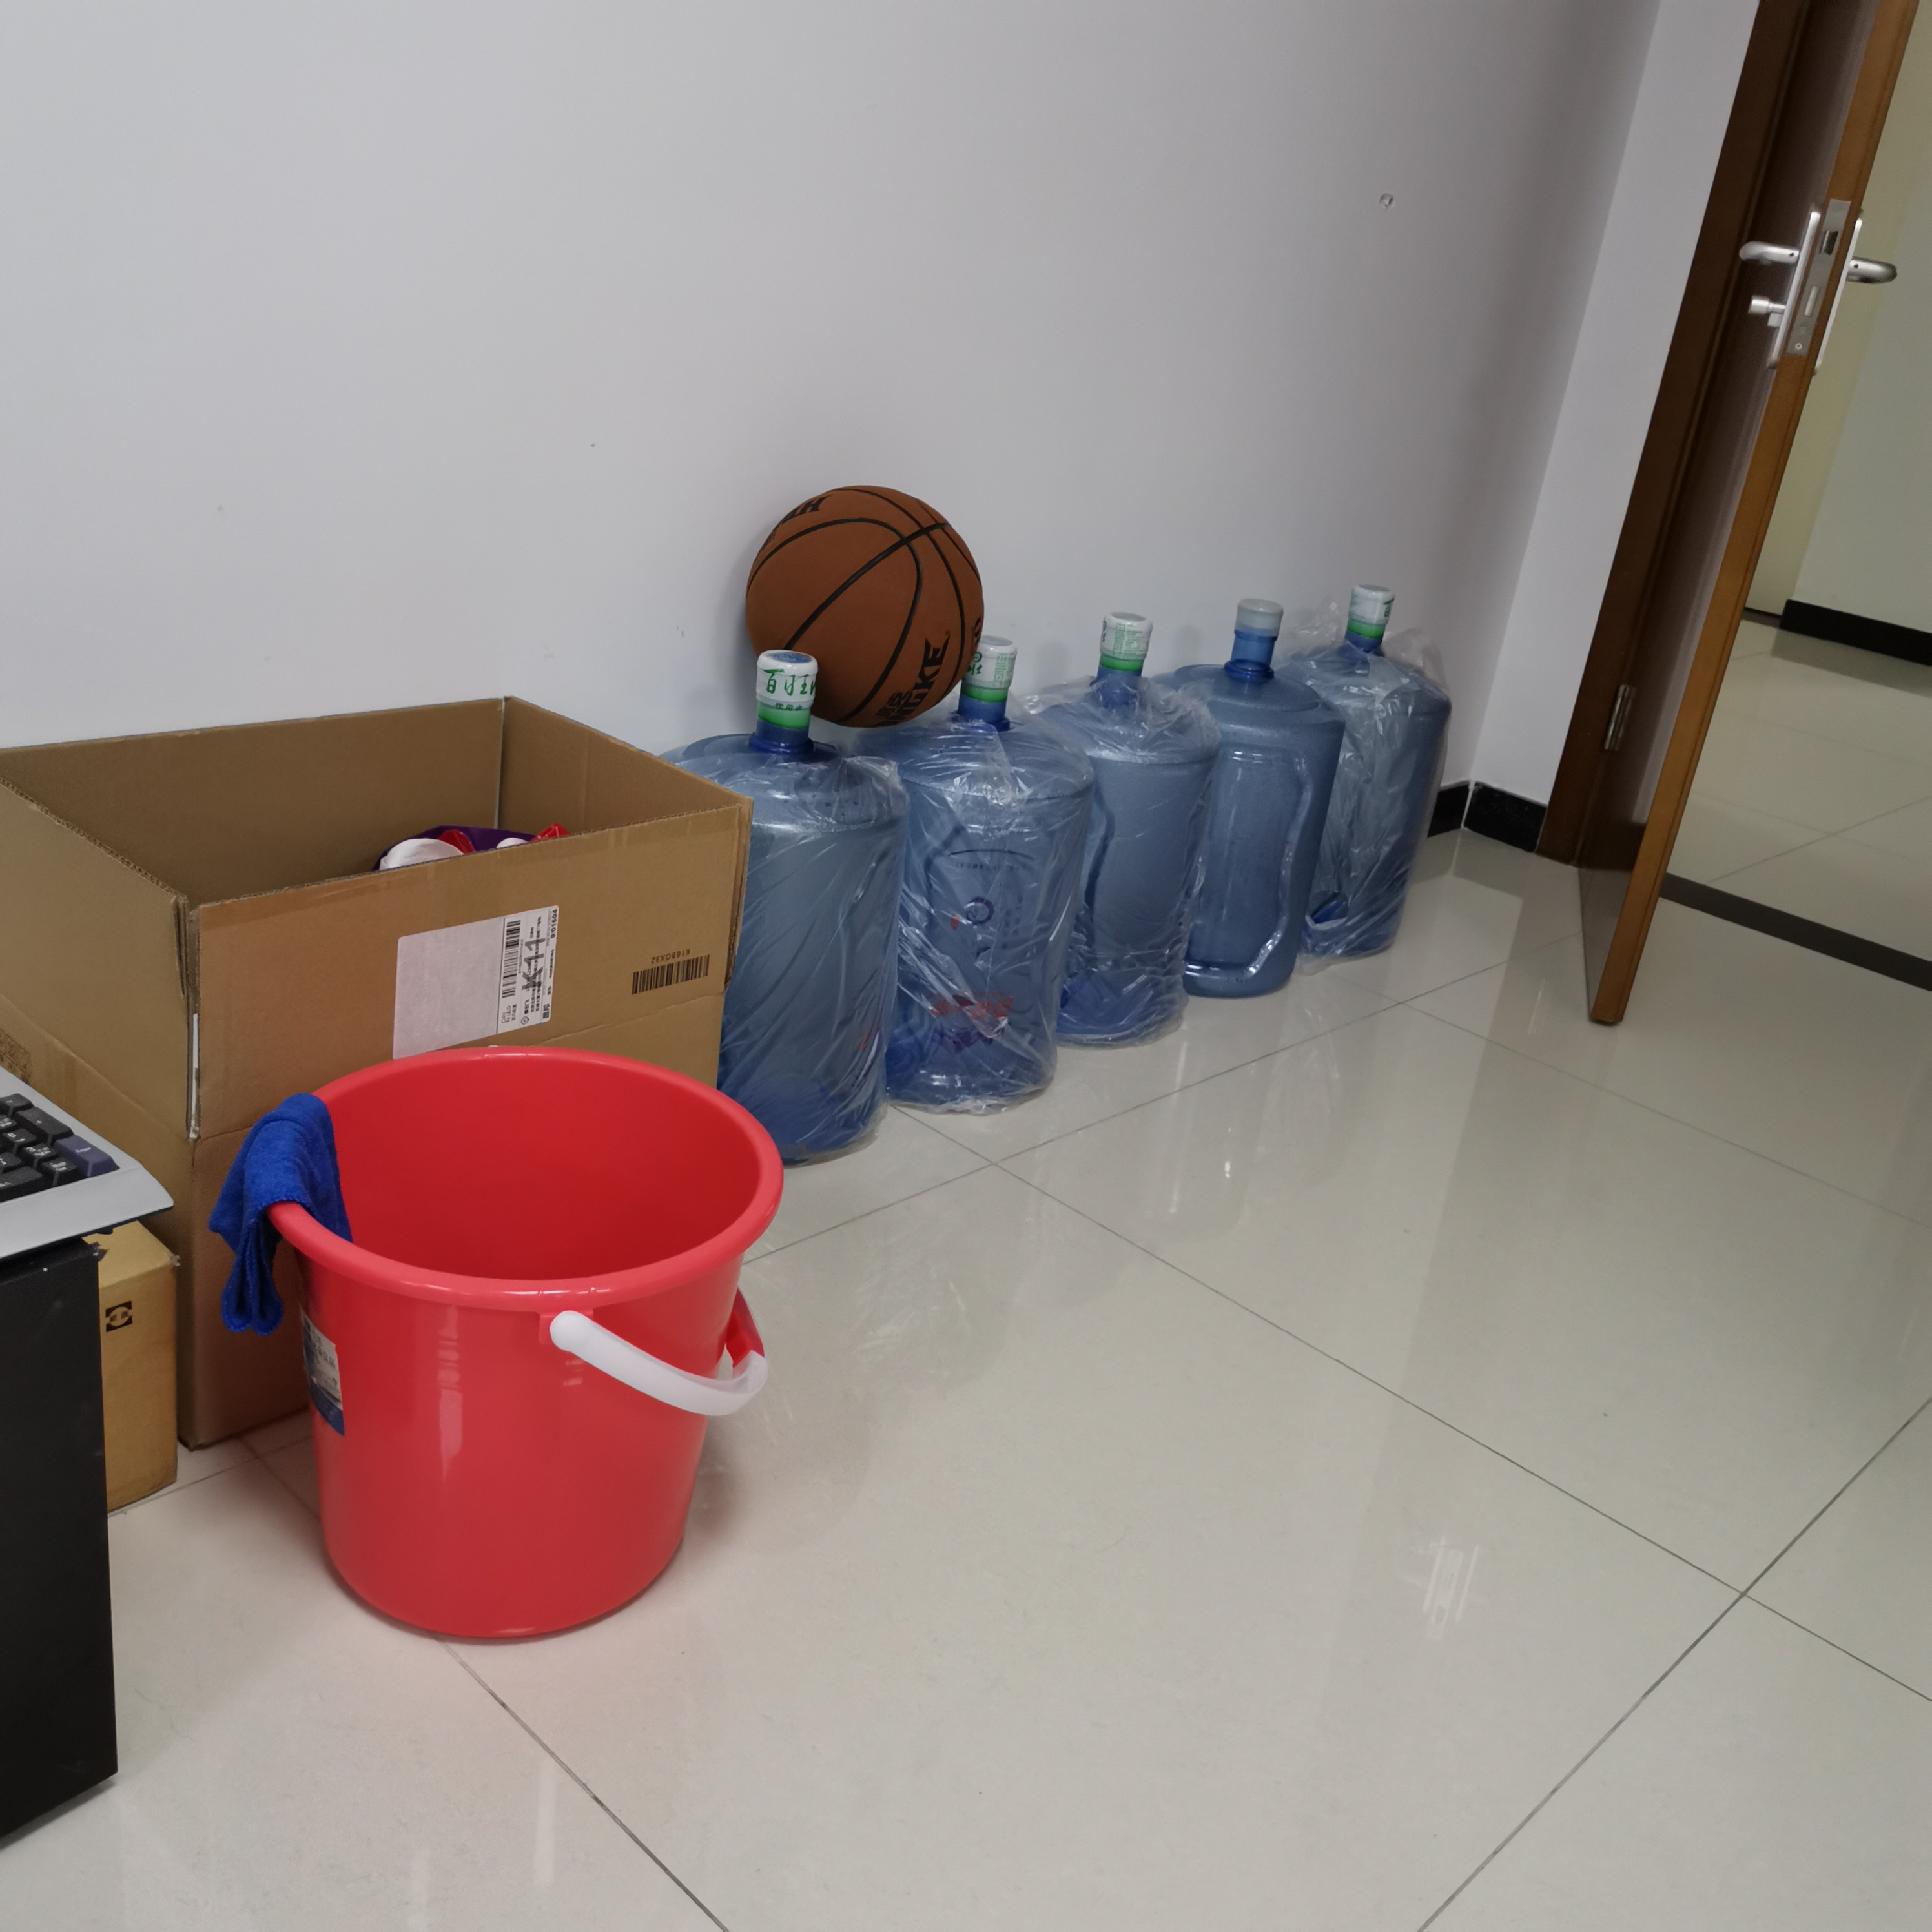basketball: (747, 483, 984, 729)
